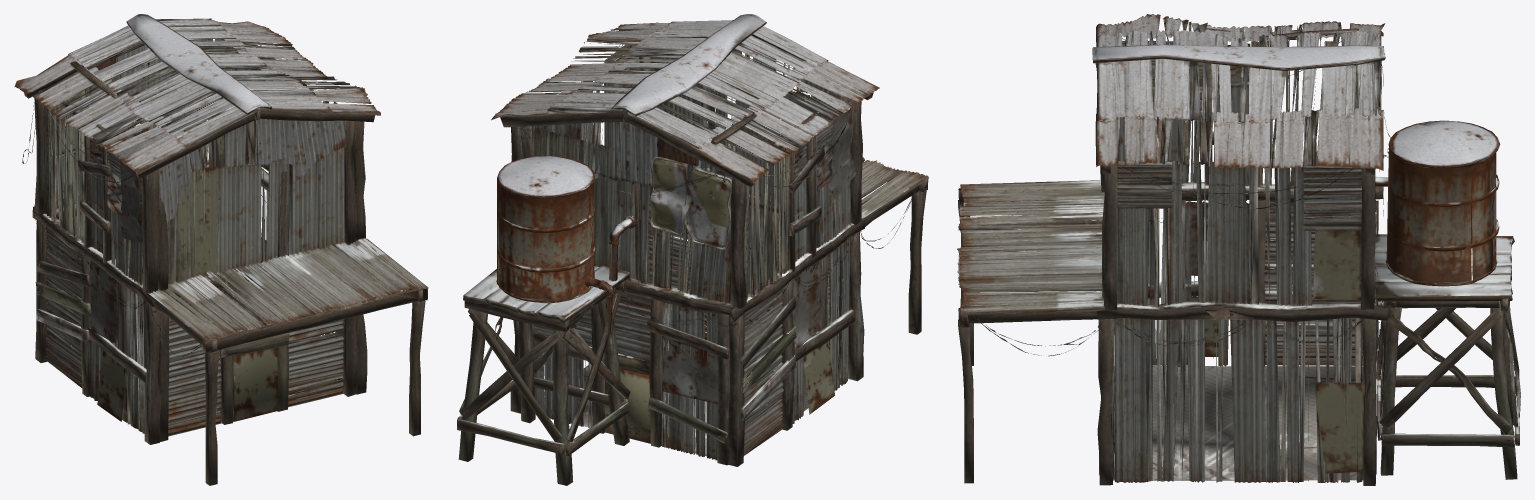
Rendered from jt_scrap_house_c.glb.
3 renders of one model, left to right at view 1: azimuth 30°, elevation 25°; view 2: azimuth 150°, elevation 25°; view 3: azimuth 270°, elevation 25°, orthographic. The views are drawn at different scales.
Size of the model in its own units: 0.5981 by 0.7051 by 0.9575.
1 material, 1 textured.
